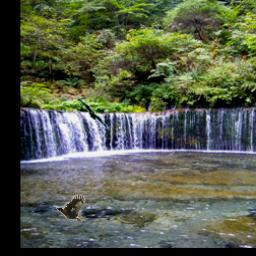Crow: (77, 95, 111, 131)
Woodpecker: (57, 195, 86, 222)
